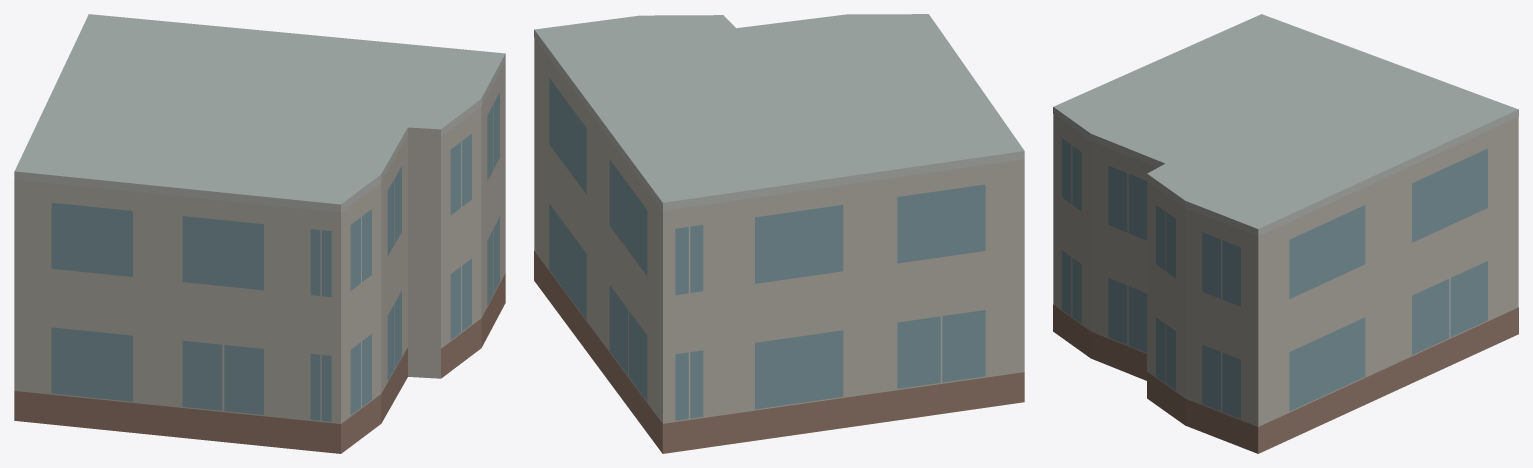
The model's file is survey-upis-32992985.glb.
3 views of the same model, side by side, from view 1: azimuth 30°, elevation 25°; view 2: azimuth 150°, elevation 25°; view 3: azimuth 270°, elevation 25° (orthographic). The views are drawn at different scales.
Parts seen in each view (by area): view 1: survey-upis-32992985.tmp; view 2: survey-upis-32992985.tmp; view 3: survey-upis-32992985.tmp.
Boxes of the visible parts, left/top/right/bottom form: survey-upis-32992985.tmp: left=14, top=14, right=505, bottom=453; survey-upis-32992985.tmp: left=534, top=14, right=1024, bottom=453; survey-upis-32992985.tmp: left=1053, top=14, right=1518, bottom=453.
Bounding box in the file's own units: 15.61 × 7.6 × 14.27.
